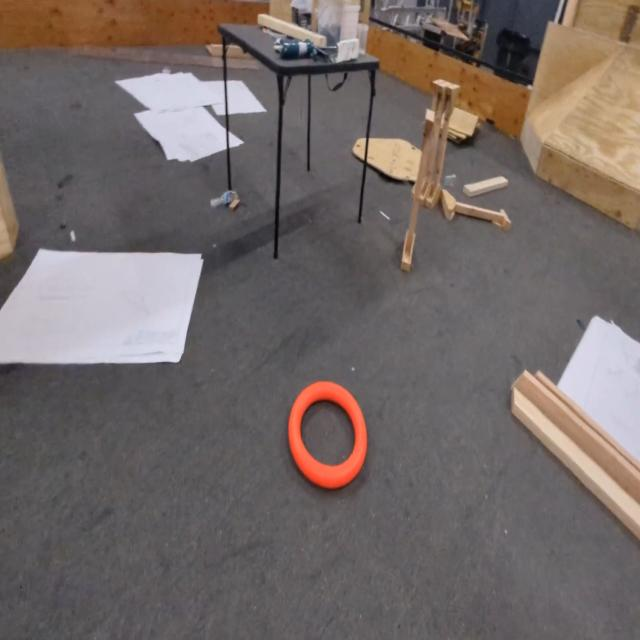note: (286, 383, 366, 489)
